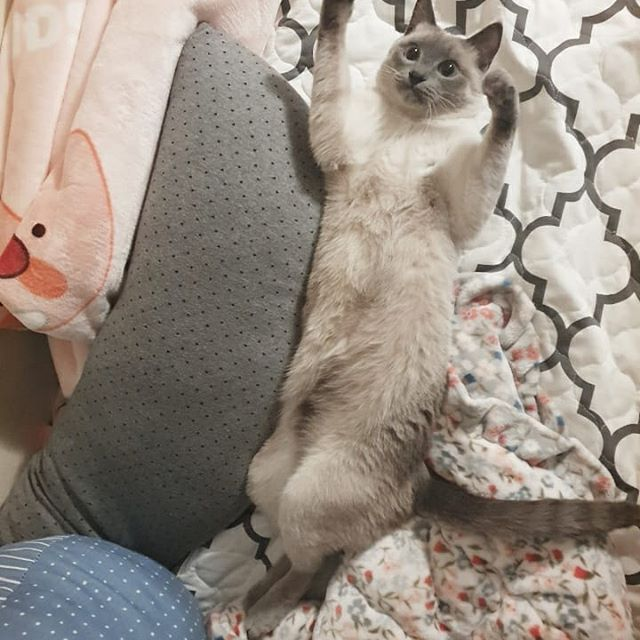cat: (377, 1, 505, 128)
